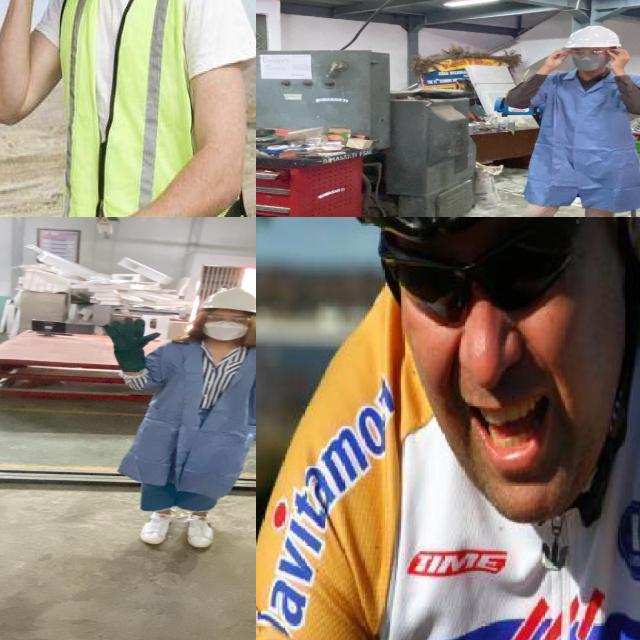face_mask: (202, 312, 254, 339), (566, 44, 612, 72)
face_nomask: (393, 247, 582, 471)
glasses: (385, 217, 600, 335), (562, 47, 616, 60), (204, 314, 254, 324)
hand_glove: (101, 317, 164, 351)
hand_noglove: (539, 48, 579, 69), (600, 47, 633, 67)
head_helmet: (190, 285, 256, 312), (563, 23, 625, 50)
person: (0, 0, 256, 217), (98, 286, 256, 554), (494, 20, 640, 217)
shoes: (180, 512, 226, 552), (132, 508, 177, 548)
vest: (55, 0, 256, 217)
